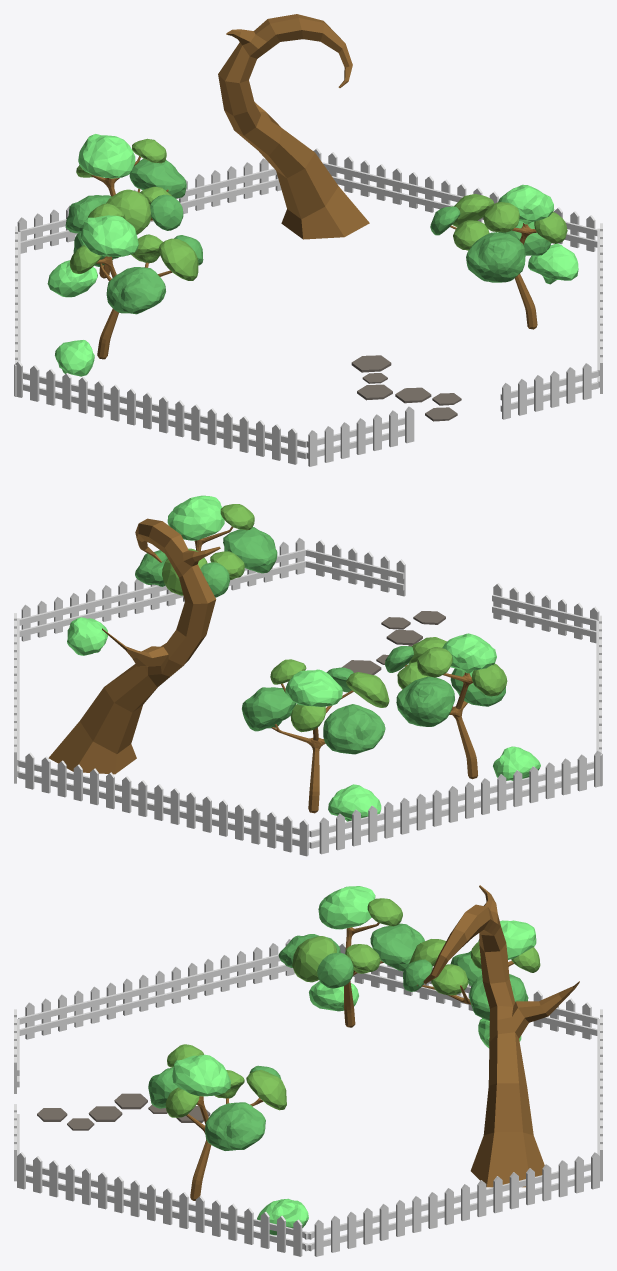
The model's file is garden.glb.
3 views of the same model, one above another, from view 1: azimuth 30°, elevation 25°; view 2: azimuth 150°, elevation 25°; view 3: azimuth 270°, elevation 25° (orthographic).
Visible parts, largest first — view 1: Cube.003, fence.006, fence.001, fence.004, tree.011, tree.007, tree.009, fence.005, tree.002, tree, fence, tree.005 (+10 smaller); view 2: Cube.003, fence.004, fence.002, fence.003, tree.007, tree, tree.011, fence.005, fence, tree.002, tree.005, tree.010 (+10 smaller); view 3: Cube.003, fence.003, fence.001, fence.006, tree.011, tree, tree.002, fence.002, tree.009, tree.007, tree.005, tree.010 (+7 smaller).
Part boxes in pixels (x1=…): Cube.003: x1=218, y1=14, x2=369, y2=239; fence.006: x1=14, y1=361, x2=306, y2=464; fence.001: x1=313, y1=148, x2=597, y2=251; fence.004: x1=17, y1=158, x2=281, y2=253; tree.011: x1=430, y1=206, x2=551, y2=282; tree.007: x1=65, y1=158, x2=186, y2=233; tree.009: x1=452, y1=194, x2=567, y2=250; fence.005: x1=307, y1=406, x2=414, y2=466; tree.002: x1=70, y1=203, x2=198, y2=280; tree: x1=73, y1=231, x2=203, y2=314; fence: x1=500, y1=363, x2=598, y2=419; tree.005: x1=76, y1=138, x2=171, y2=234; Cube.003: x1=48, y1=518, x2=220, y2=774; fence.004: x1=18, y1=752, x2=309, y2=856; fence.002: x1=310, y1=750, x2=602, y2=854; fence.003: x1=17, y1=537, x2=305, y2=641; tree.007: x1=242, y1=667, x2=385, y2=754; tree: x1=385, y1=646, x2=505, y2=726; tree.011: x1=135, y1=527, x2=277, y2=597; fence.005: x1=492, y1=583, x2=599, y2=643; fence: x1=306, y1=540, x2=405, y2=596; tree.002: x1=397, y1=637, x2=507, y2=696; tree.005: x1=270, y1=659, x2=389, y2=732; tree.010: x1=167, y1=495, x2=224, y2=540; Cube.003: x1=423, y1=885, x2=579, y2=1187; fence.003: x1=17, y1=1152, x2=312, y2=1256; fence.001: x1=304, y1=1152, x2=599, y2=1256; fence.006: x1=18, y1=935, x2=305, y2=1039; tree.011: x1=148, y1=1065, x2=281, y2=1150; tree: x1=278, y1=923, x2=424, y2=988; tree.002: x1=292, y1=898, x2=402, y2=982; fence.002: x1=339, y1=943, x2=598, y2=1039; tree.009: x1=165, y1=1044, x2=286, y2=1117; tree.007: x1=403, y1=951, x2=528, y2=1020; tree.005: x1=409, y1=939, x2=540, y2=995; tree.010: x1=172, y1=1054, x2=230, y2=1096.
Size of the model in its own units: 49.06 by 18.97 by 42.31.
